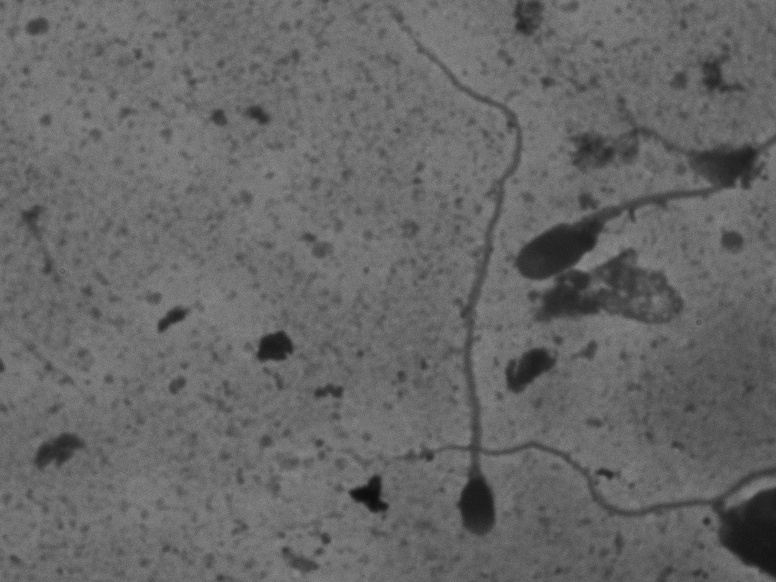Abnormal: (509, 183, 716, 287)
Normal: (387, 19, 535, 543)
